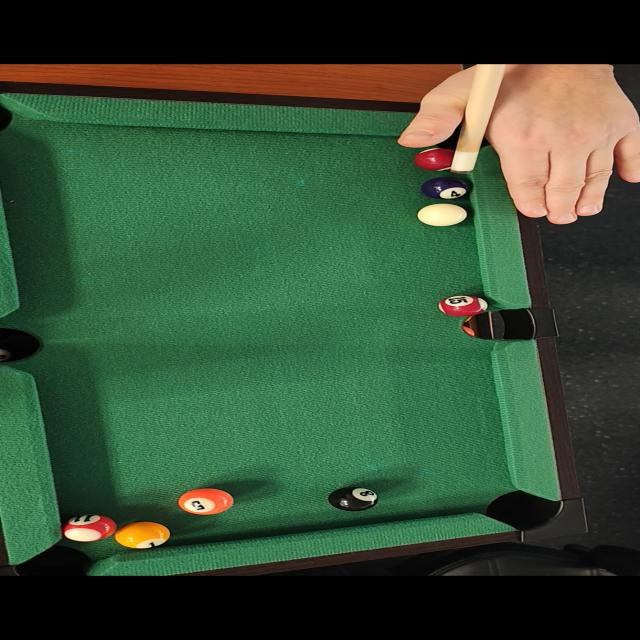cue ball: (414, 201, 470, 230)
other: (58, 514, 126, 544), (172, 483, 232, 515), (322, 484, 388, 513), (406, 145, 472, 173), (110, 521, 168, 551), (436, 291, 496, 318), (422, 173, 478, 201)
